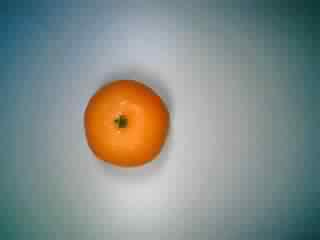orange: (77, 74, 172, 176)
